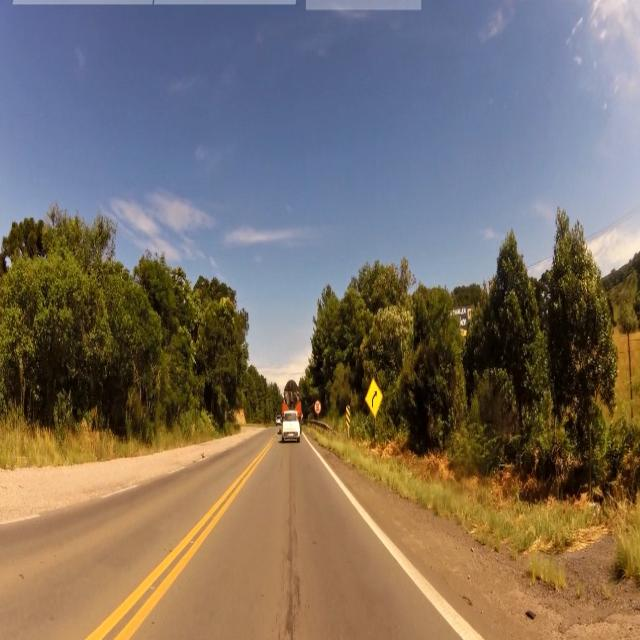A-2b: (364, 378, 382, 419)
